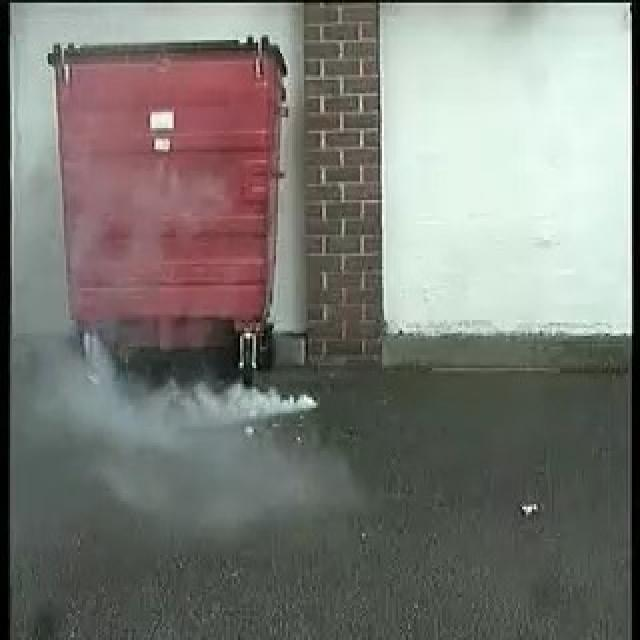smoke: (25, 379, 325, 449)
